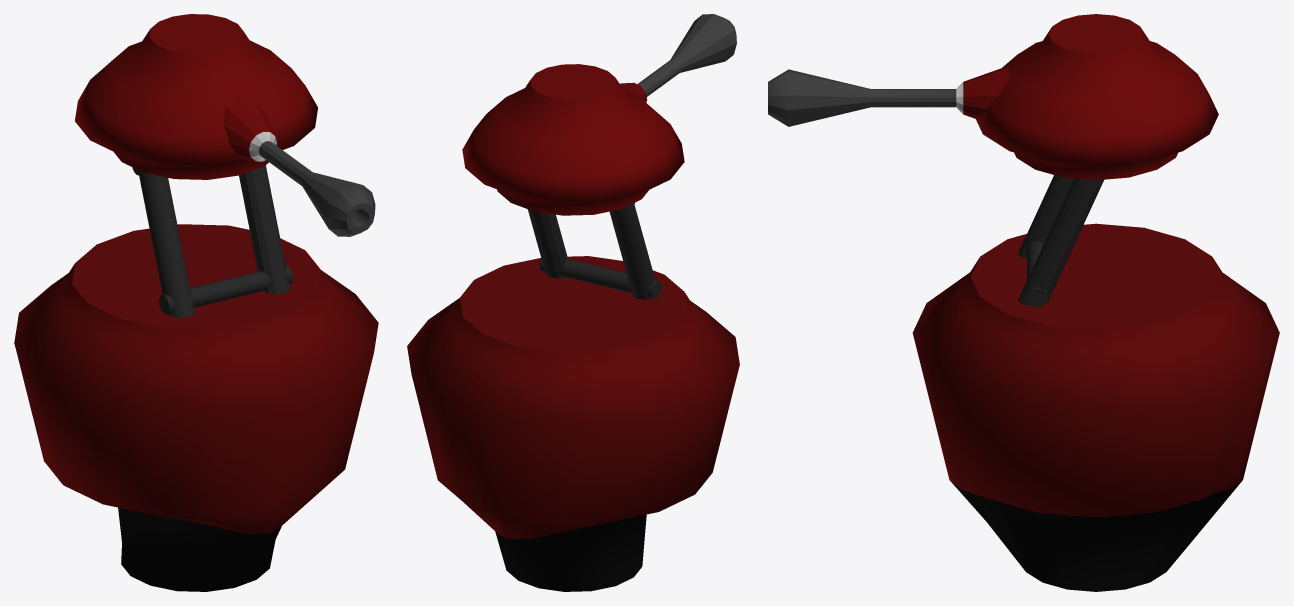
The model's file is LaserDroidMesher.fbx.
The picture shows the model from 3 angles, left to right: view 1: azimuth 30°, elevation 25°; view 2: azimuth 150°, elevation 25°; view 3: azimuth 270°, elevation 25°; orthographic projection. The views are drawn at different scales.
Parts seen in each view (by area): view 1: TurrentArm1; view 2: TurrentArm1; view 3: TurrentArm1.
Part boxes in pixels (<box>): TurrentArm1: <box>14,14,378,591</box>; TurrentArm1: <box>407,14,739,591</box>; TurrentArm1: <box>768,14,1279,591</box>.
Bounding box in the file's own units: 4 × 6.32 × 5.58.
